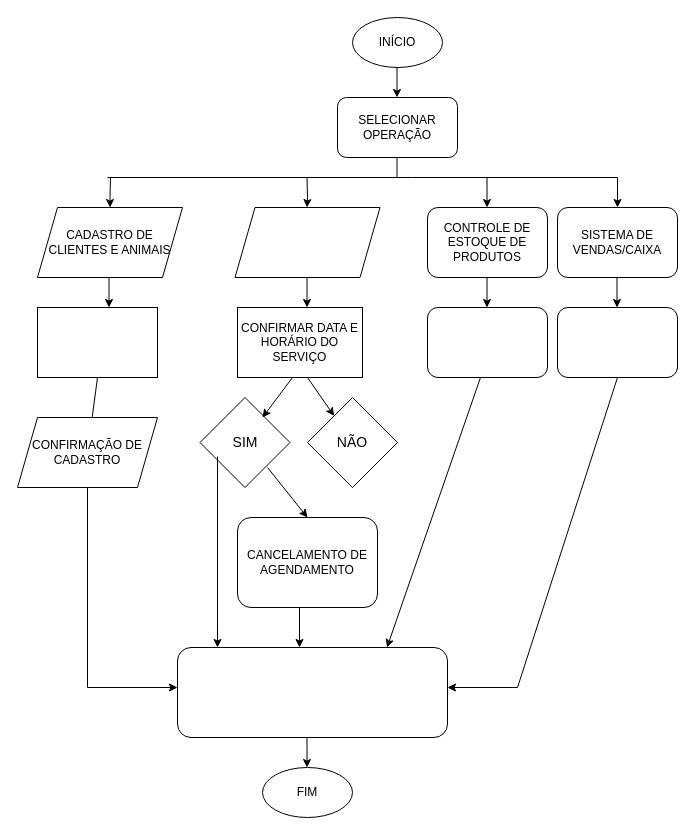
Image size: 695x835. Some labels were removed from this diagram. The box of each missing label's shape, as (x1, y1, x2, y2) in pixels:
AGENDAMENTO DE SERVIÇOS (BANHO/TOSA): (234, 206, 380, 278)
GERAR RELATÓRIOS (CLIENTES, VENDAS, ESTOQUE, SERVIÇOS): (176, 646, 448, 738)
INSERIR DADOS DO CLIENTE E DO ANIMAL: (36, 306, 158, 378)
REGISTRAR VENDA: (556, 306, 678, 378)
VERIFICAR NÍVEL DE ESTOQUE: (426, 306, 548, 378)
